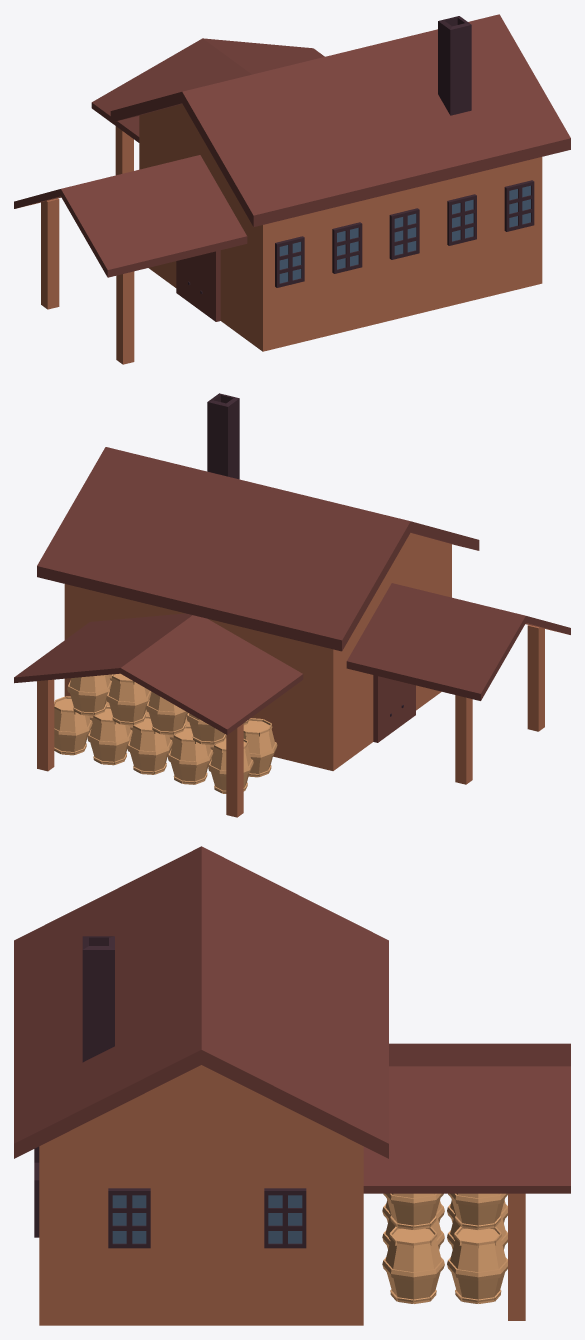
The model's file is tavern.fbx.
3 renders of one model, top to bottom at view 1: azimuth 30°, elevation 25°; view 2: azimuth 150°, elevation 25°; view 3: azimuth 270°, elevation 25°, orthographic. The views are drawn at different scales.
Parts seen in each view (by area): view 1: house, window, door; view 2: house, barrels, door; view 3: house, barrels, window.
Boxes of the visible parts, x1=… form: house: x1=14, y1=14, x2=570, y2=364; window: x1=275, y1=180, x2=534, y2=287; door: x1=176, y1=250, x2=220, y2=321; house: x1=14, y1=393, x2=570, y2=817; barrels: x1=54, y1=673, x2=277, y2=793; door: x1=373, y1=675, x2=415, y2=742; house: x1=14, y1=846, x2=570, y2=1325; barrels: x1=382, y1=1193, x2=507, y2=1303; window: x1=34, y1=1146, x2=306, y2=1248.
Size of the model in its own units: 9.52 by 5.67 by 7.98.
